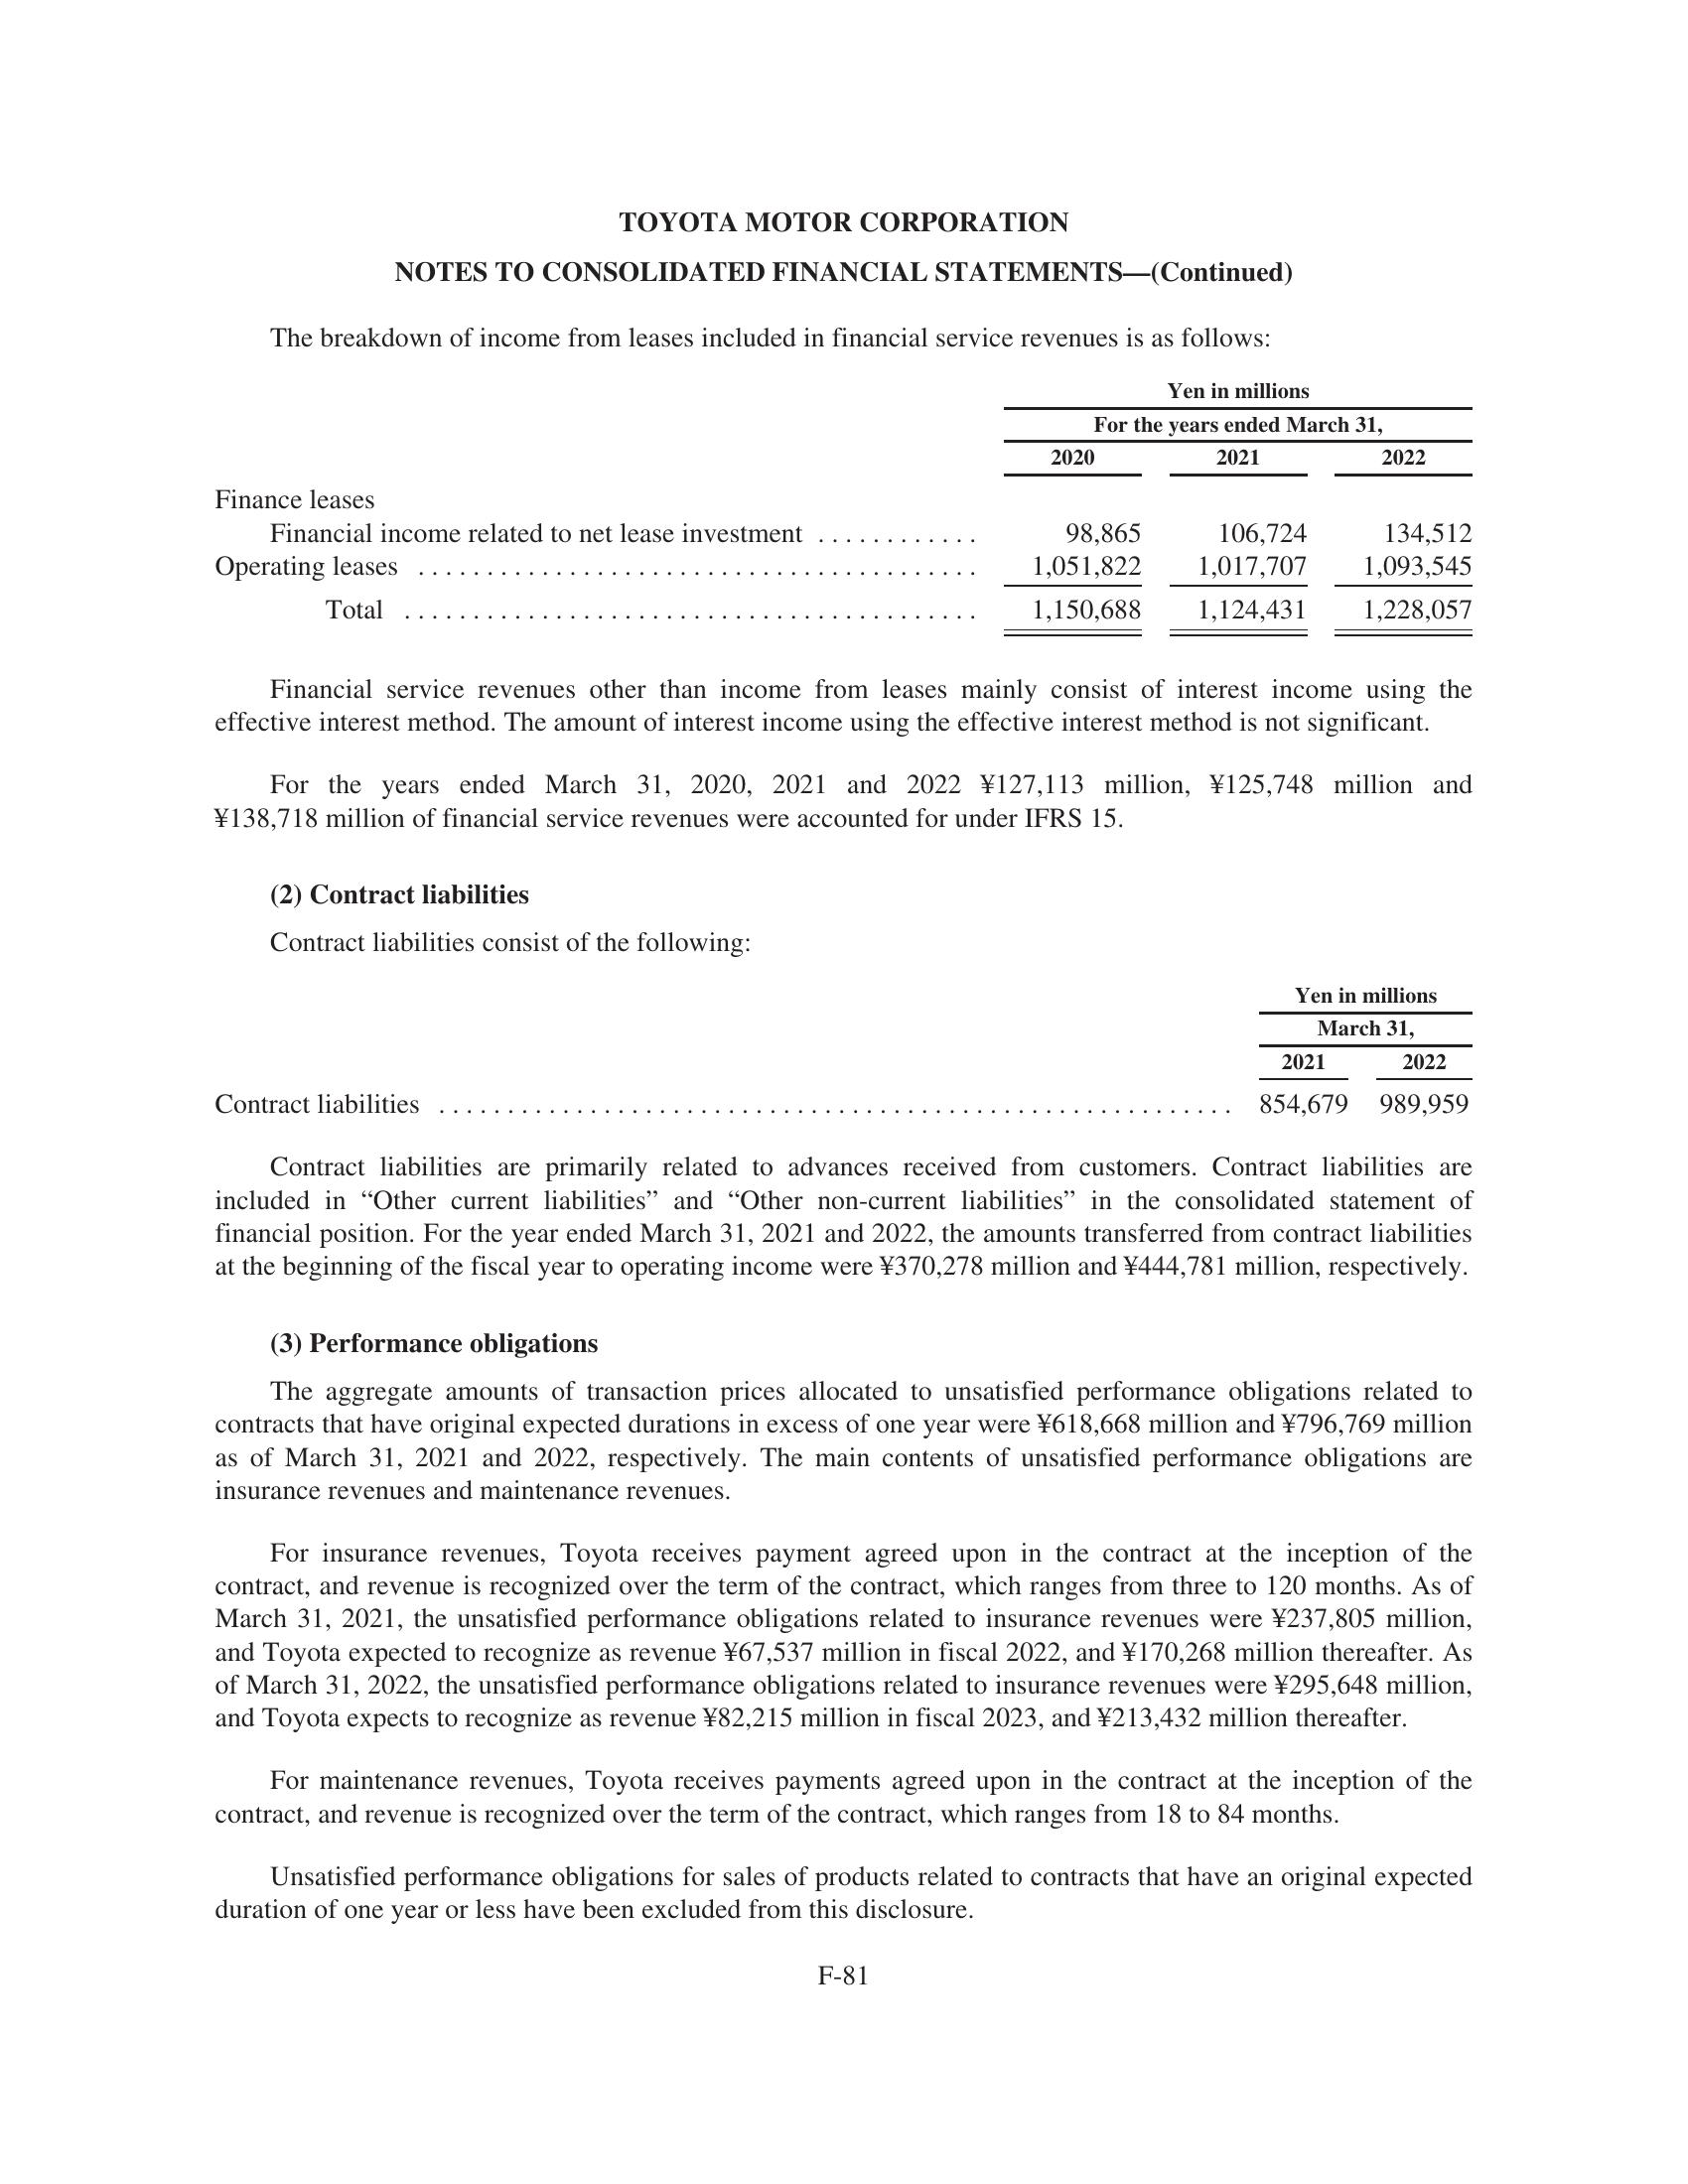Footer: (0, 1950, 1688, 2184)
Header: (0, 0, 1688, 200)
Table: (106, 353, 1555, 647), (167, 957, 1491, 1127)
